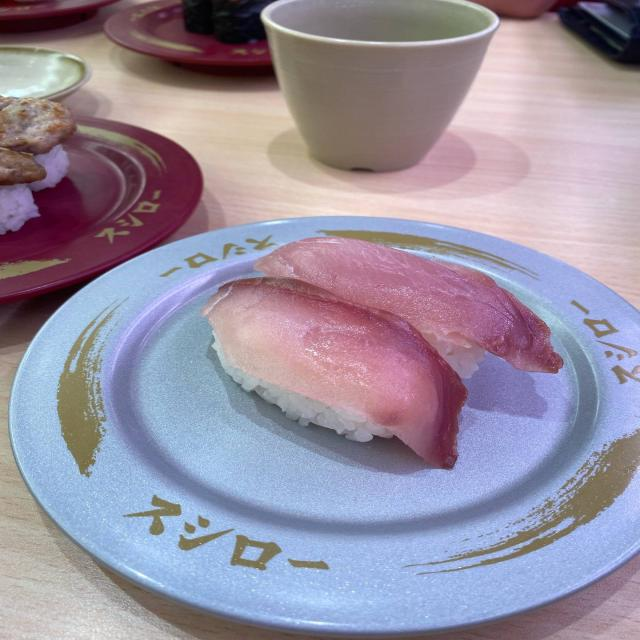janred: (18, 99, 203, 264), (77, 10, 268, 80), (0, 0, 113, 29), (480, 9, 569, 37)
janwoven: (54, 234, 640, 578)
